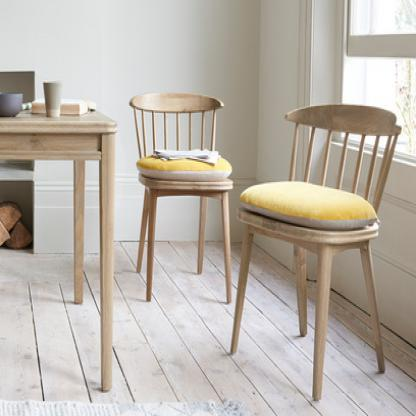chair: (239, 89, 408, 393), (113, 84, 233, 303)
table: (0, 87, 114, 408)
